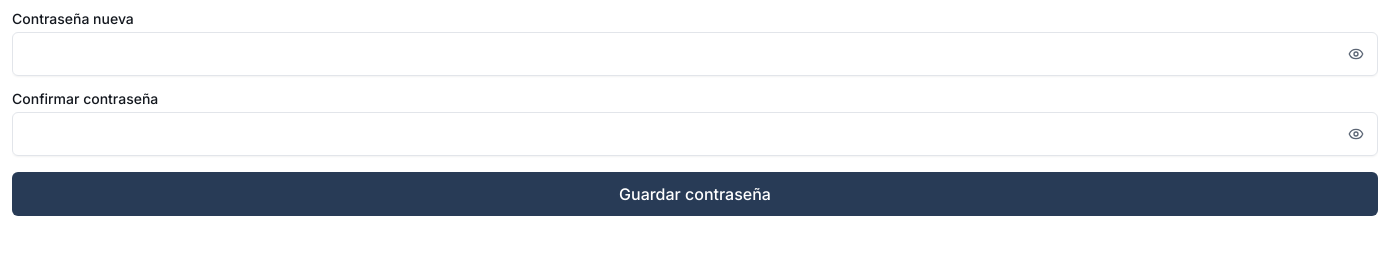
RestablecerContrasenaForm › muestra un error de validación cuando las contraseñas no coinciden
Type "12345678" into the password field labelled "Contraseña nueva" at [695, 54], box [12, 32, 1378, 76]
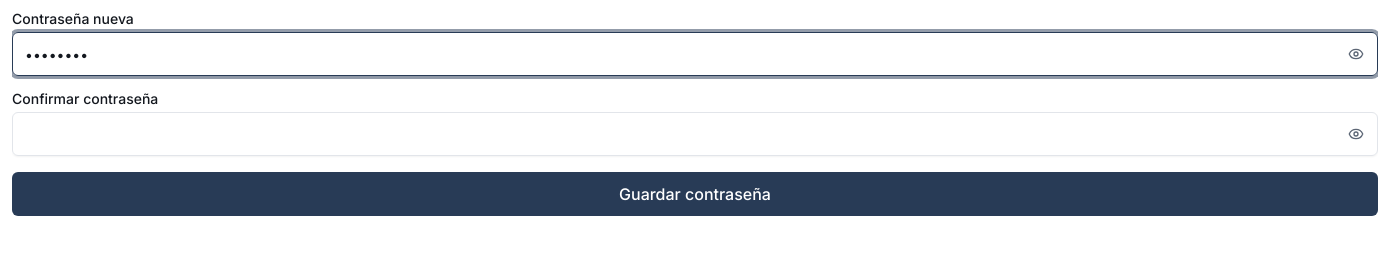
Type "87654321" into the password field labelled "Confirmar contraseña" at [695, 134], box [12, 112, 1378, 156]
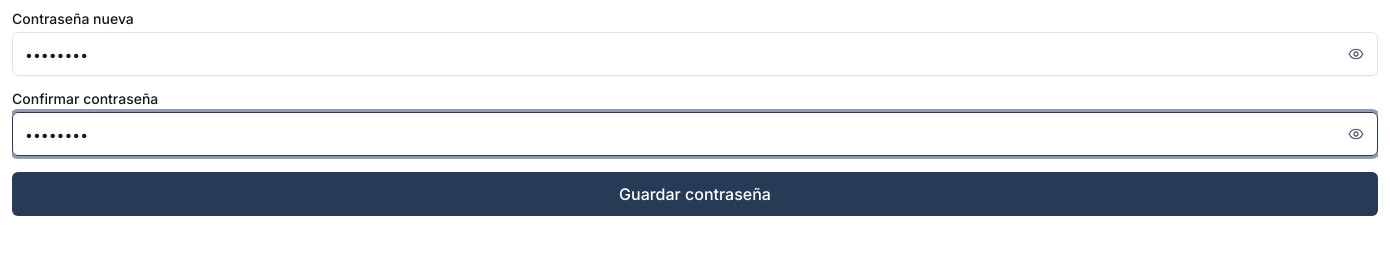
Click the button "Guardar contraseña" at [695, 194], box [12, 172, 1378, 216]
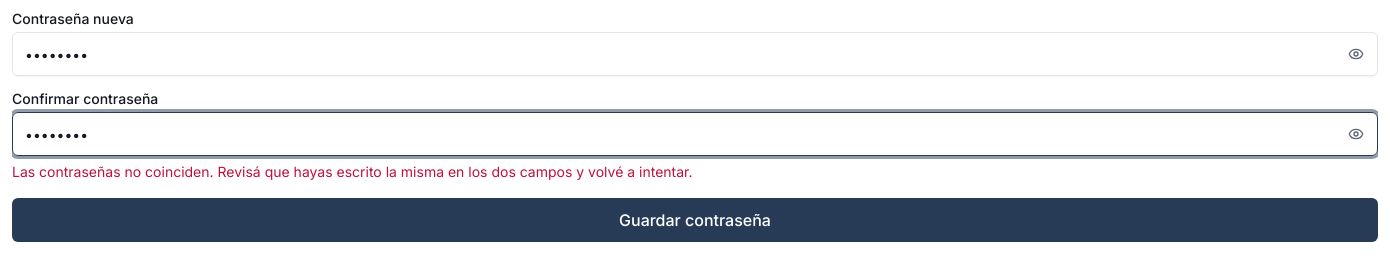
Expected: the text "no coinciden" is shown, [12, 163, 692, 180]
